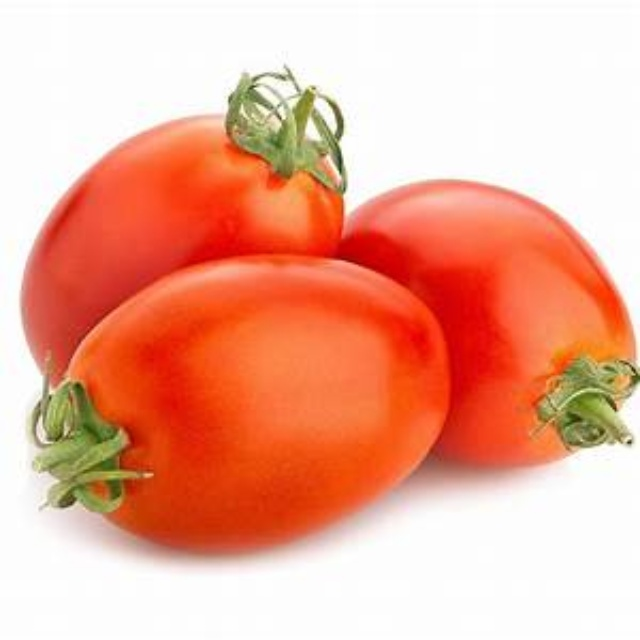tomato: (50, 265, 445, 557), (25, 90, 344, 394), (361, 170, 639, 482)
